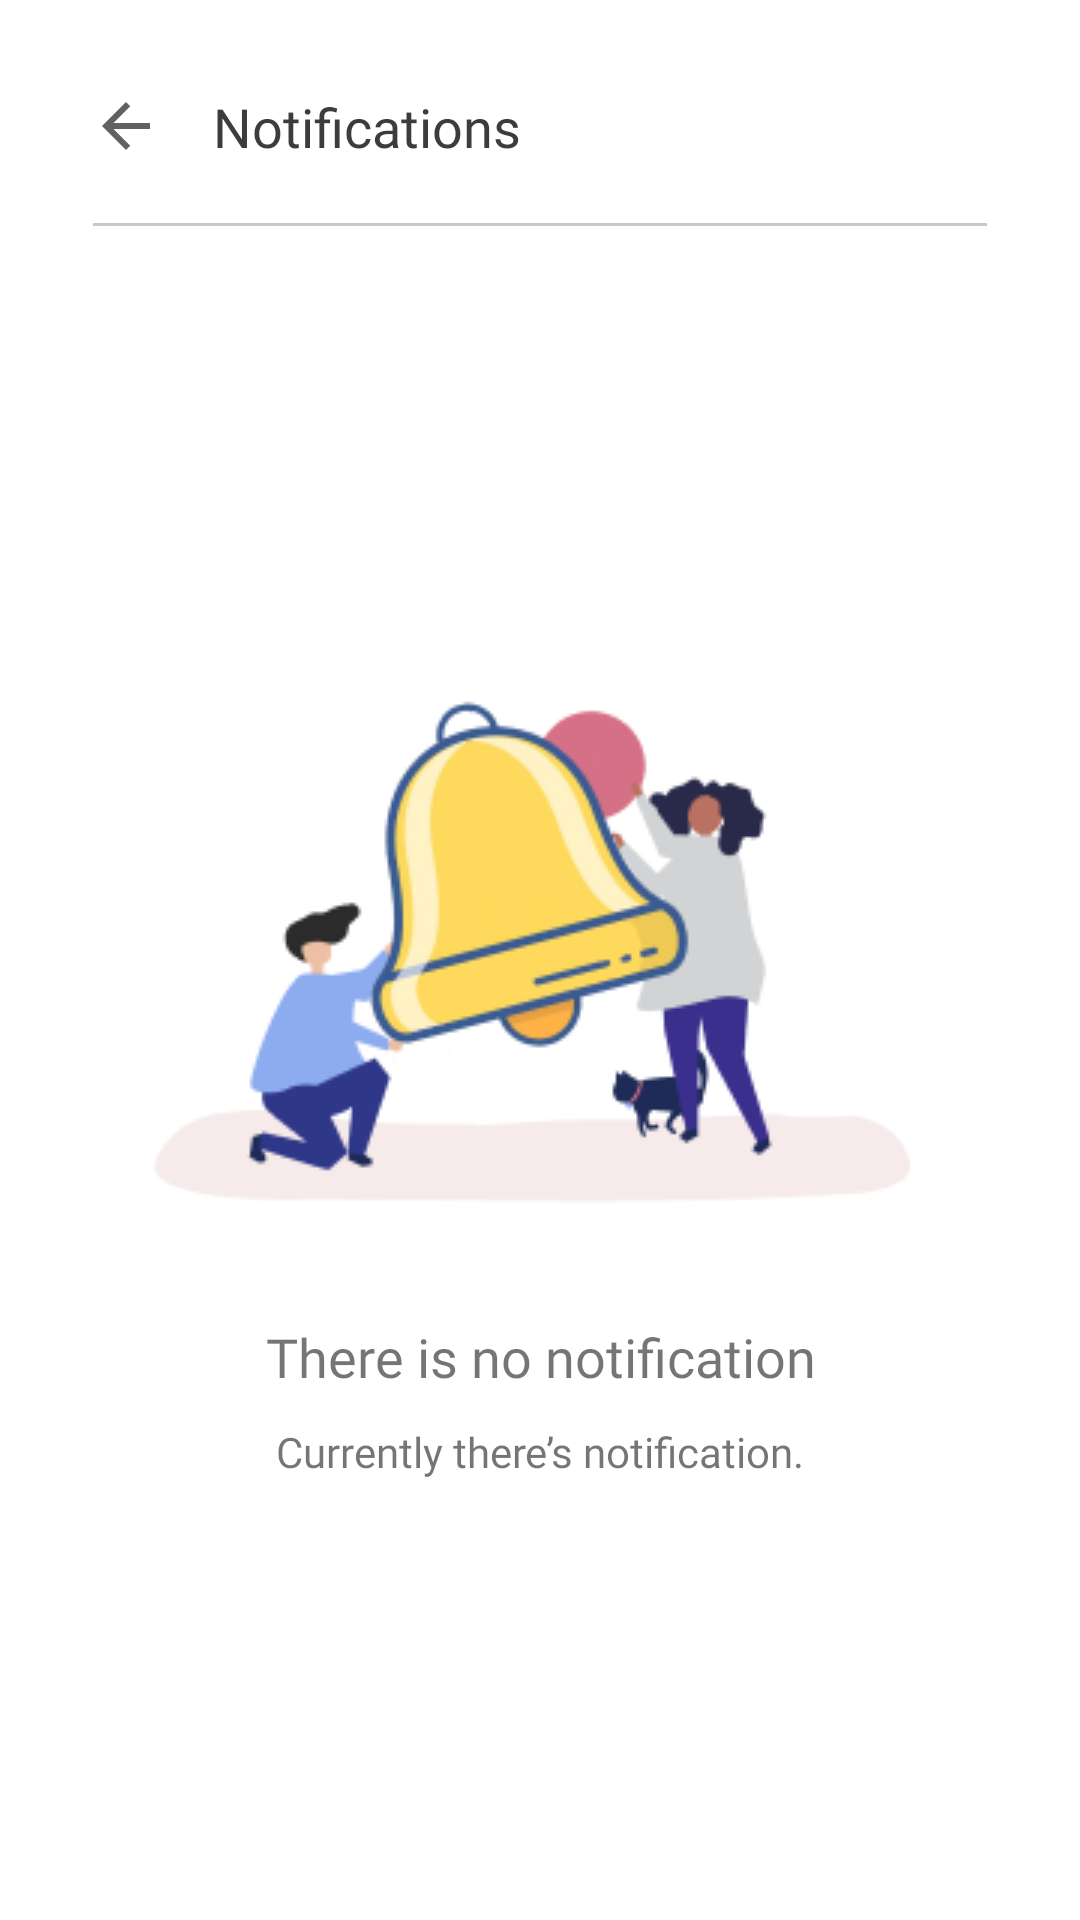

Screen size 1080px x 1920px. Icon name, then its box in pixels as (x1, y1, x2, y2):
arrow back: (102, 102, 150, 150)
